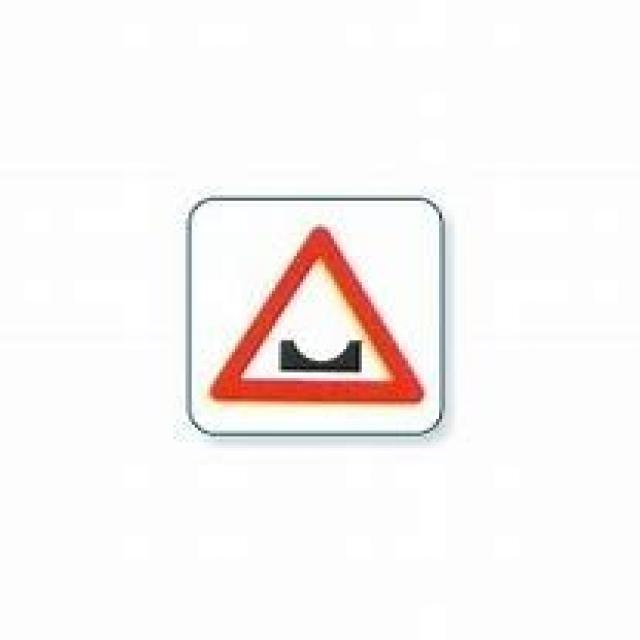DANGEROUS_DIP: (179, 195, 439, 436)
